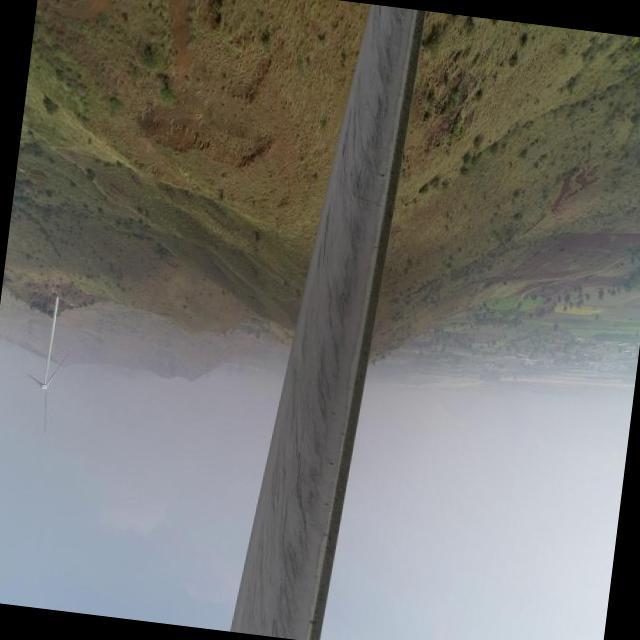Dirt: (225, 4, 424, 640)
